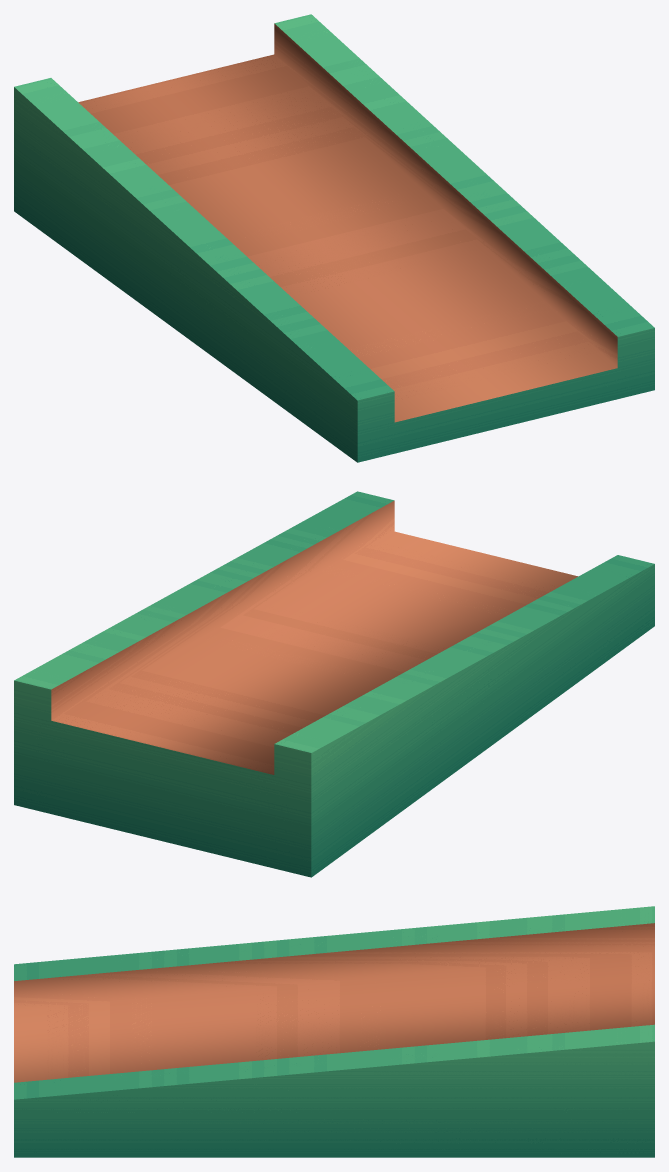
File: tile-straight-slope-large.glb
3 views of the same model, one above another, from view 1: azimuth 30°, elevation 25°; view 2: azimuth 150°, elevation 25°; view 3: azimuth 270°, elevation 25° (orthographic). The views are drawn at different scales.
Parts seen in each view (by area): view 1: tile-straight-slope-large; view 2: tile-straight-slope-large; view 3: tile-straight-slope-large.
Part boxes in pixels (box(x1,y1,x2,y2)): tile-straight-slope-large: box(14, 14, 654, 462); tile-straight-slope-large: box(14, 491, 654, 877); tile-straight-slope-large: box(14, 906, 654, 1157).
Size of the model in its own units: 1 by 0.4 by 2.
Materials: 1 (1 with a texture image).
